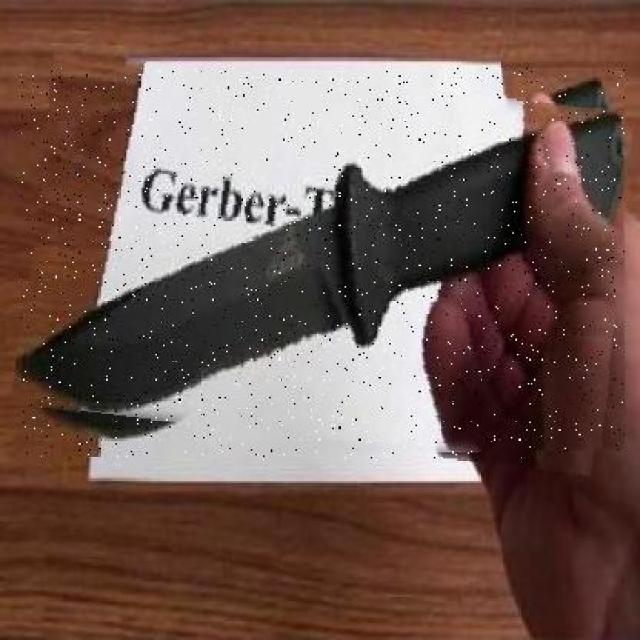knife: (20, 68, 625, 458)
